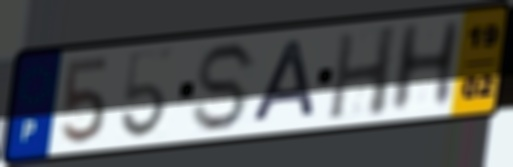5: (117, 45, 183, 143), (57, 53, 113, 148)
A: (248, 37, 318, 126)
H: (385, 16, 466, 117), (325, 22, 401, 122)
S: (190, 39, 262, 135)
